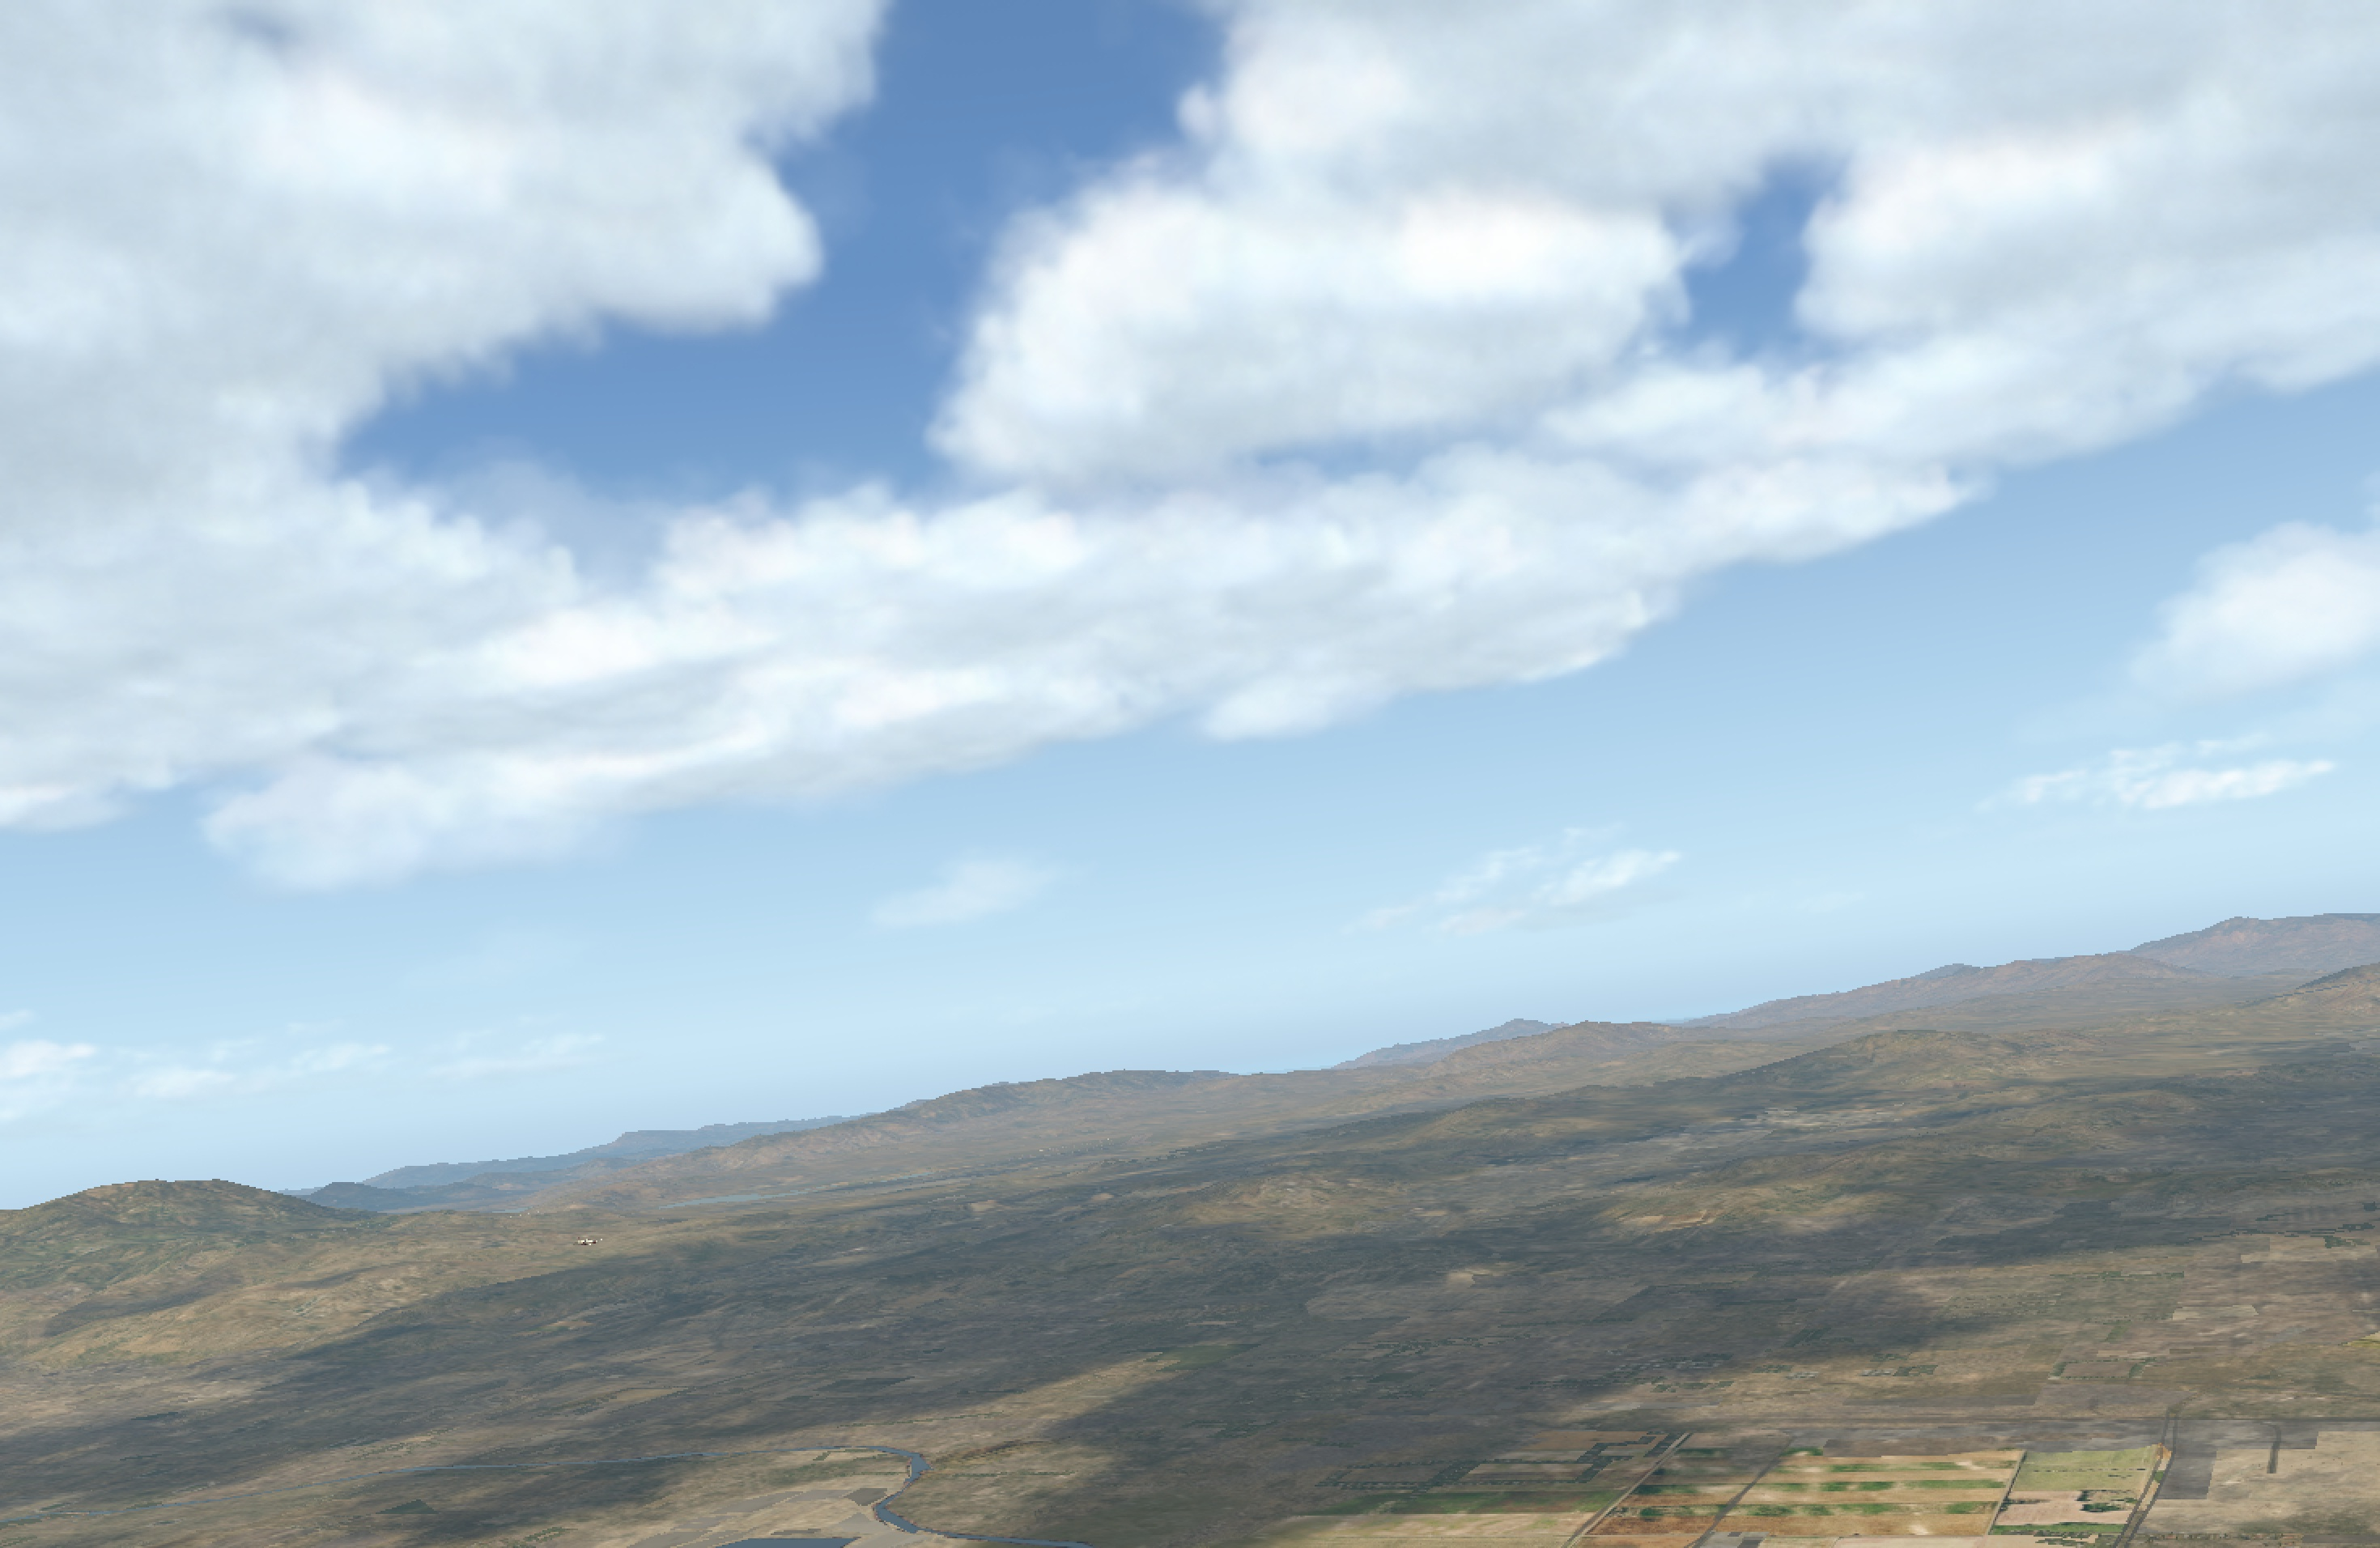aircraft: (569, 1236, 609, 1251)
